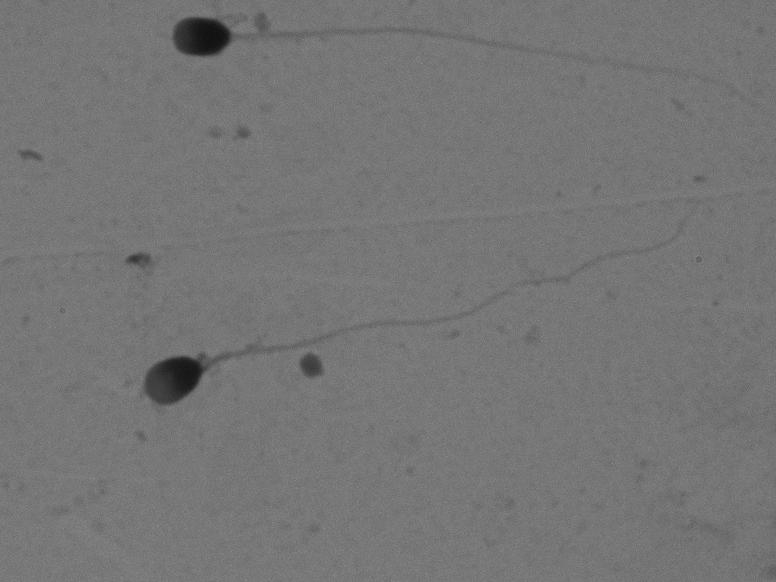Abnormal: (114, 171, 720, 424)
Normal: (134, 6, 763, 111)
